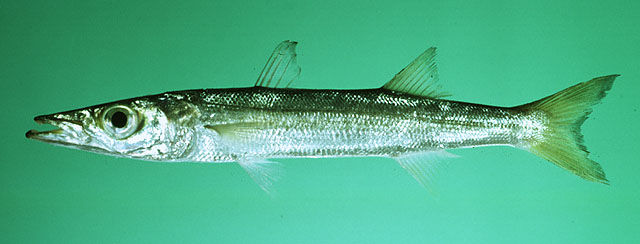fish: (25, 39, 621, 194)
